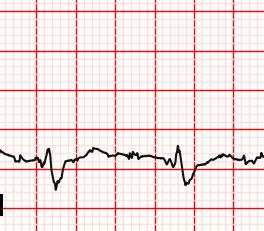Poor R Progression: (170, 143, 187, 169), (41, 144, 58, 168)
ST Depression: (40, 154, 66, 192), (172, 155, 200, 186)
